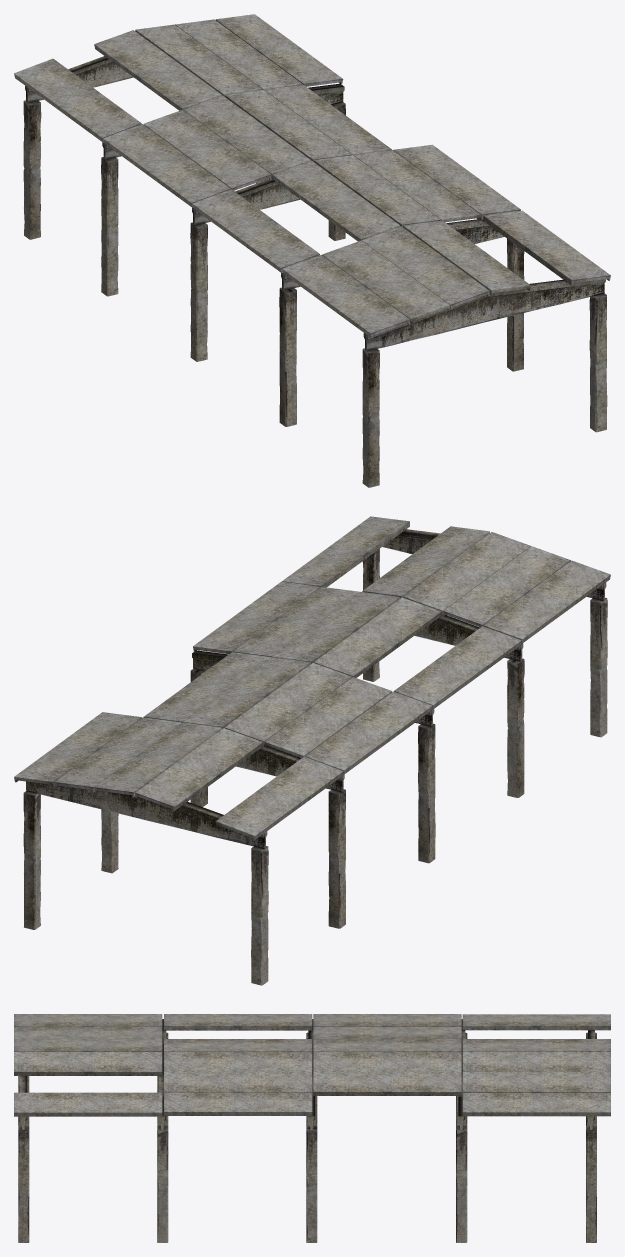
The model's file is Сoncrete_canopy_mesh.FBX.
3 views of the same model, one above another, from view 1: azimuth 30°, elevation 25°; view 2: azimuth 150°, elevation 25°; view 3: azimuth 270°, elevation 25° (orthographic). The views are drawn at different scales.
Parts seen in each view (by area): view 1: Object007; view 2: Object007; view 3: Object007.
Boxes of the visible parts, x1,y1,x2,y2 form: Object007: [14, 14, 610, 487]; Object007: [14, 516, 610, 985]; Object007: [14, 1014, 610, 1242].
Size of the model in its own units: 197 by 133 by 506.
